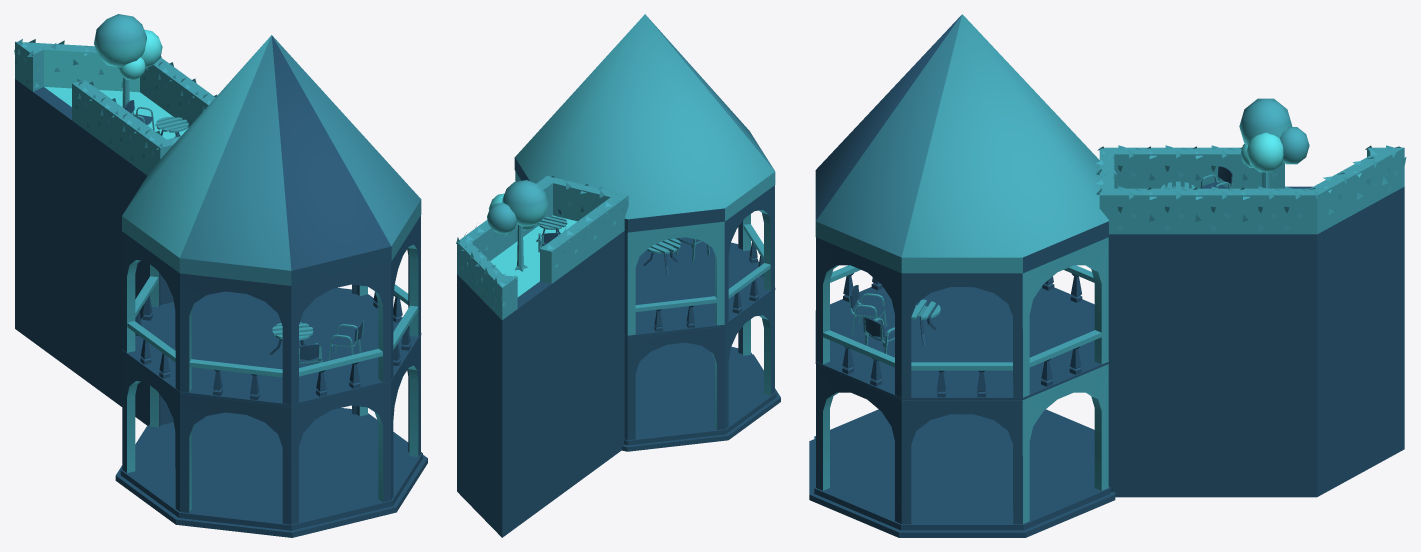
The model's file is Green_Villa_LV4.FBX.
3 renders of one model, left to right at view 1: azimuth 30°, elevation 25°; view 2: azimuth 150°, elevation 25°; view 3: azimuth 270°, elevation 25°, orthographic. The views are drawn at different scales.
Visible parts, largest first — view 1: Green_Villa; view 2: Green_Villa; view 3: Green_Villa.
Part boxes in pixels (x1,y1,x2,y2): Green_Villa: (14, 14, 427, 537); Green_Villa: (456, 14, 780, 537); Green_Villa: (809, 14, 1406, 537).
Bounding box in the file's own units: 12.95 × 21.48 × 25.3.
